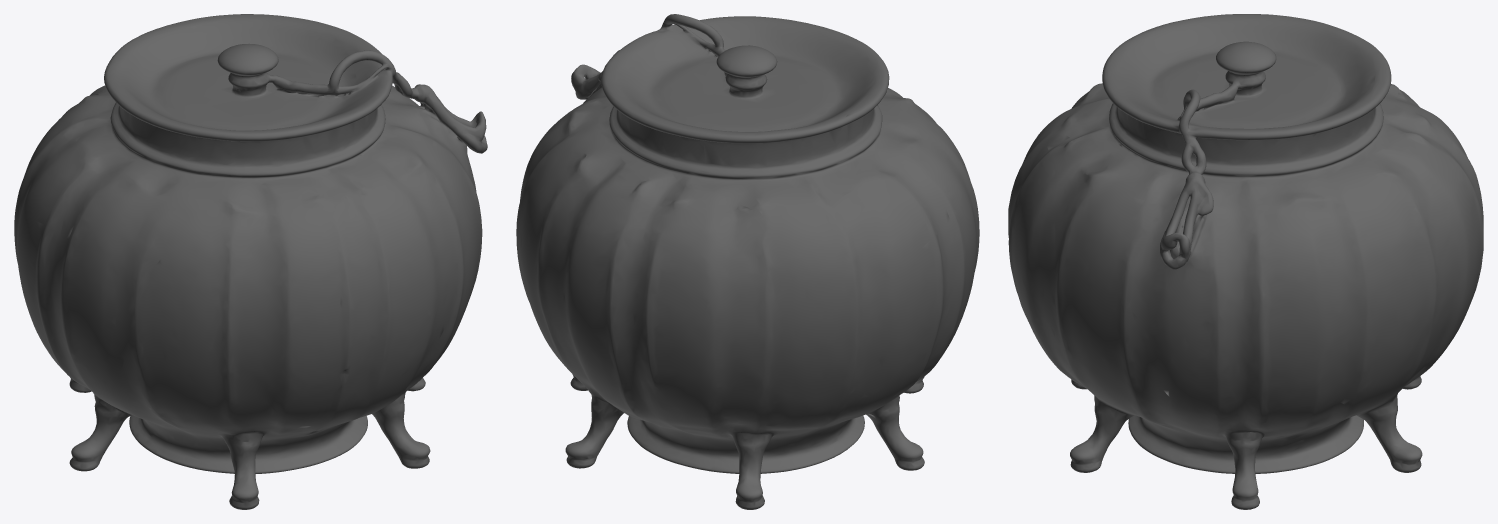
3 views of the same model, side by side, from view 1: azimuth 30°, elevation 25°; view 2: azimuth 150°, elevation 25°; view 3: azimuth 270°, elevation 25° (orthographic).
Parts seen in each view (by area): view 1: mesh_uvwarp; view 2: mesh_uvwarp; view 3: mesh_uvwarp.
Part boxes in pixels (bbox=[...]): mesh_uvwarp: bbox=[14, 14, 487, 509]; mesh_uvwarp: bbox=[516, 14, 979, 509]; mesh_uvwarp: bbox=[1008, 14, 1483, 509].
Size of the model in its own units: 2 by 1.76 by 2.
Materials: 1 (1 with a texture image).
